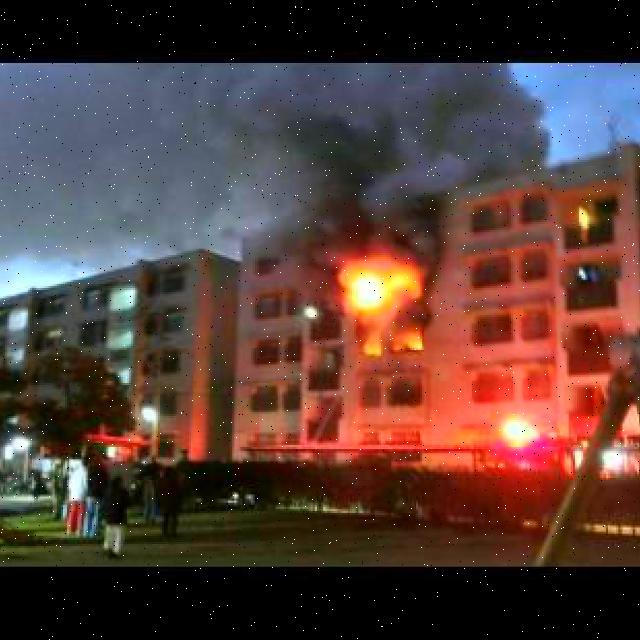fire: (344, 257, 443, 358)
smoke: (163, 62, 559, 254)
